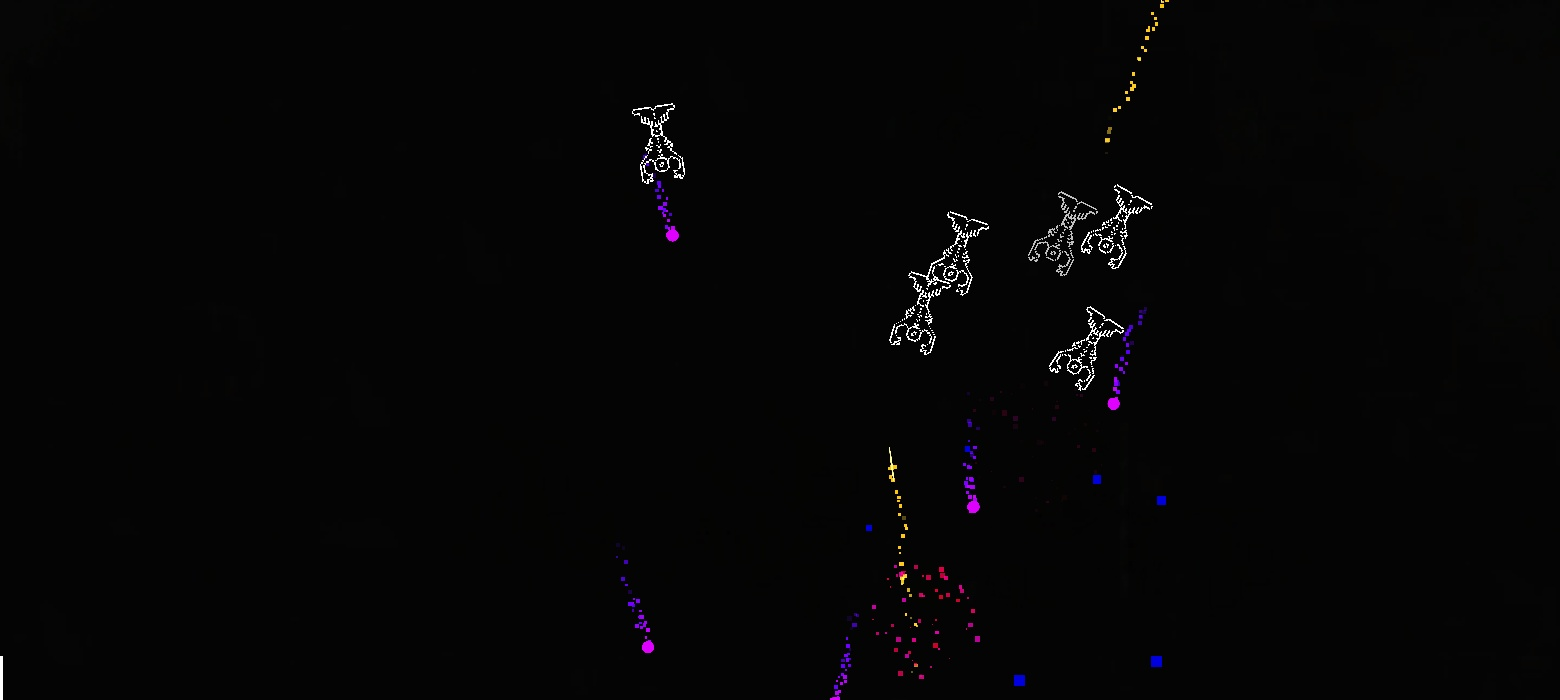enemy: (1049, 306, 1124, 392), (1081, 184, 1153, 269), (1028, 190, 1097, 276), (926, 211, 989, 296), (889, 271, 952, 355), (631, 103, 686, 184)
